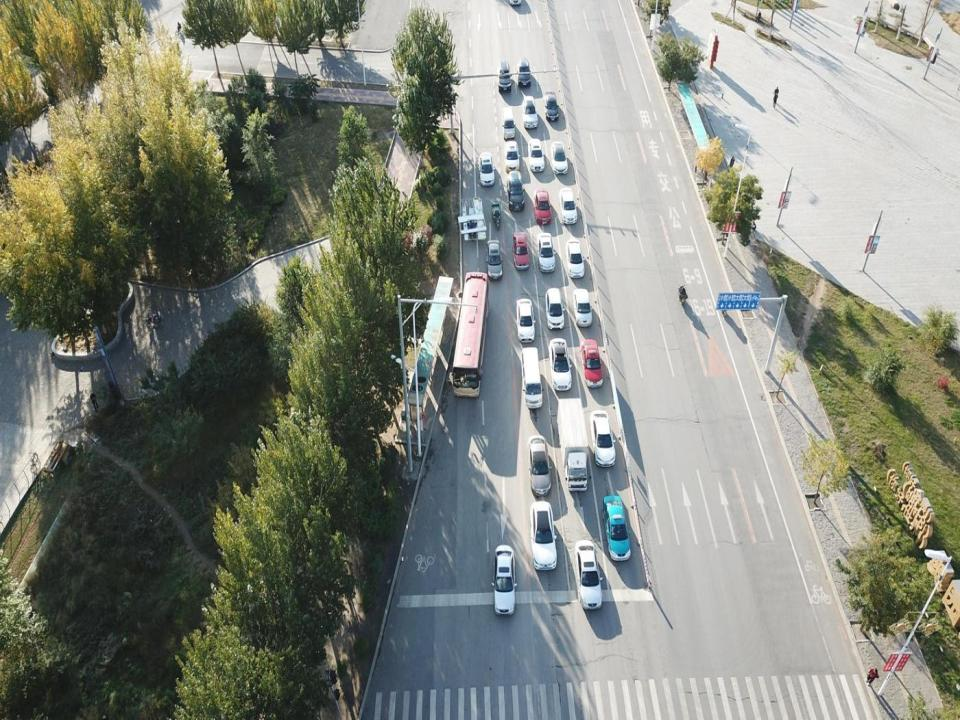bus: (454, 270, 490, 400)
car: (573, 539, 603, 609), (530, 501, 558, 573), (603, 496, 630, 561), (493, 546, 516, 616), (591, 410, 617, 467), (529, 436, 551, 497), (549, 338, 572, 390), (582, 338, 604, 388), (536, 231, 556, 275), (516, 298, 535, 342), (506, 170, 525, 214), (546, 287, 564, 332), (566, 238, 586, 278), (572, 287, 592, 326), (512, 230, 530, 270), (534, 188, 552, 226), (487, 238, 503, 280), (559, 187, 577, 224), (527, 138, 545, 173), (479, 150, 496, 186), (551, 141, 569, 175), (522, 96, 539, 129), (504, 139, 520, 173), (517, 58, 534, 87), (544, 92, 560, 122), (497, 61, 512, 93)
truck: (558, 398, 588, 492)
van: (521, 345, 543, 406), (501, 105, 517, 139)
